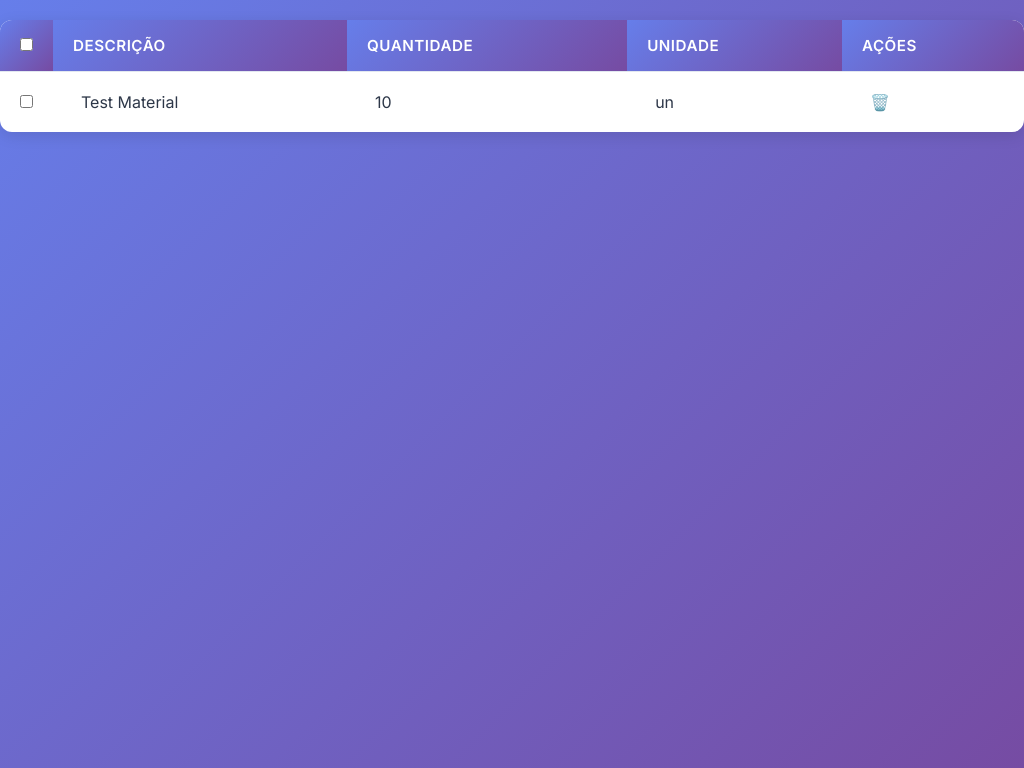
Test: MaterialsTable › handles API error during material update
The image size is (1024, 768).
// Try to edit
Click the text "Test Material" at (130, 102), box x1=81 y1=92 x2=178 y2=112
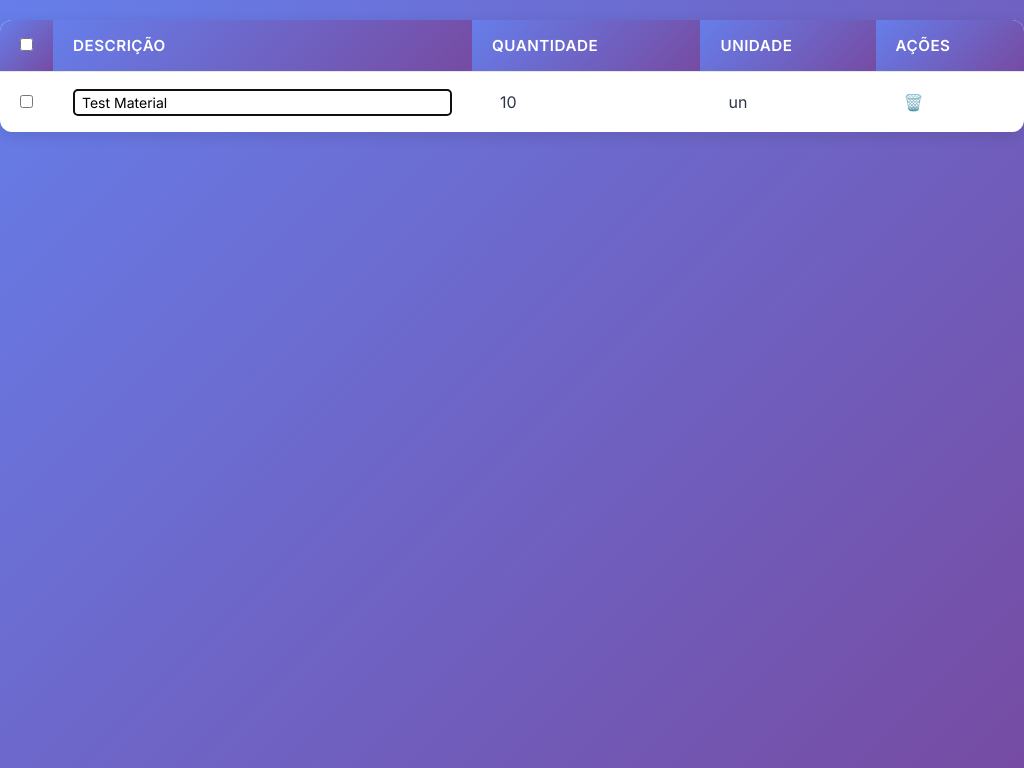
Replace the text in the field showing "Test Material" with "Updated Material" at (263, 102), box x1=73 y1=88 x2=452 y2=116
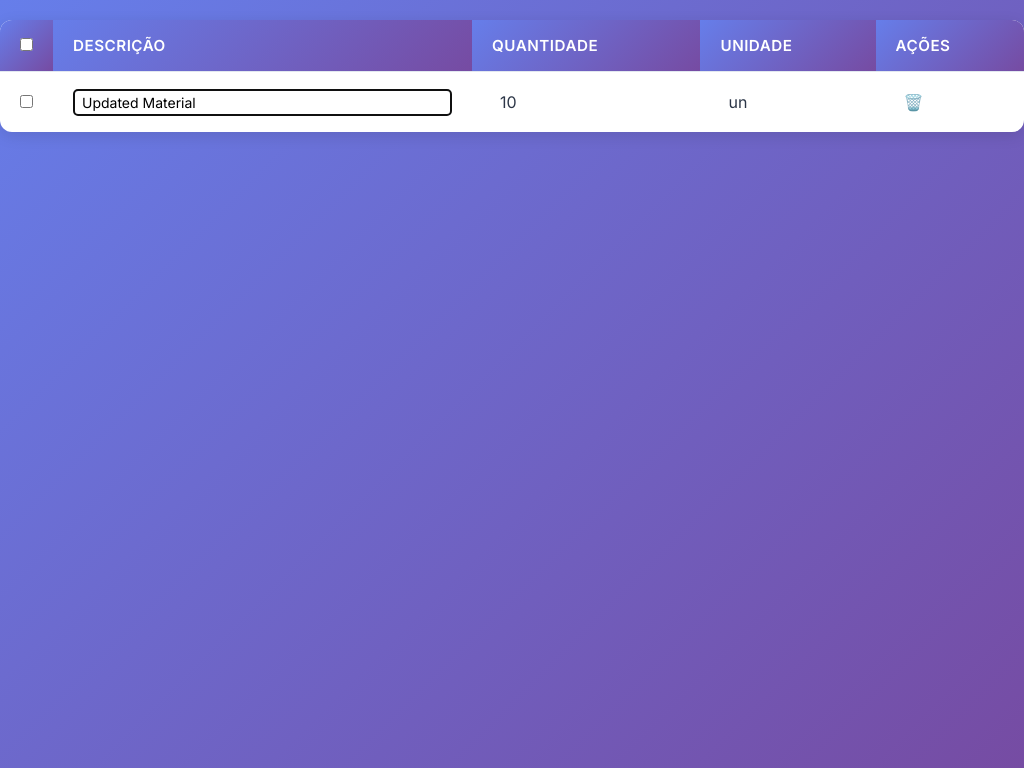
Press Enter
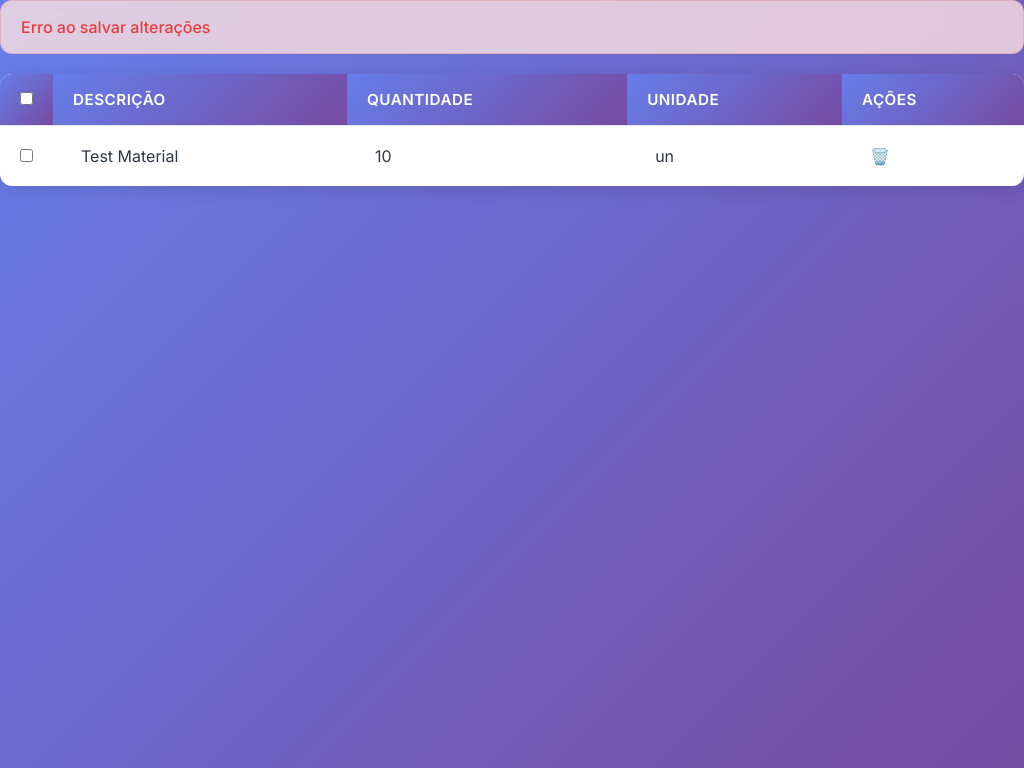
Check: the text "Erro ao salvar alterações" is shown, box x1=0 y1=0 x2=1023 y2=54
Check: the text "Test Material" is shown, box x1=81 y1=146 x2=178 y2=166
